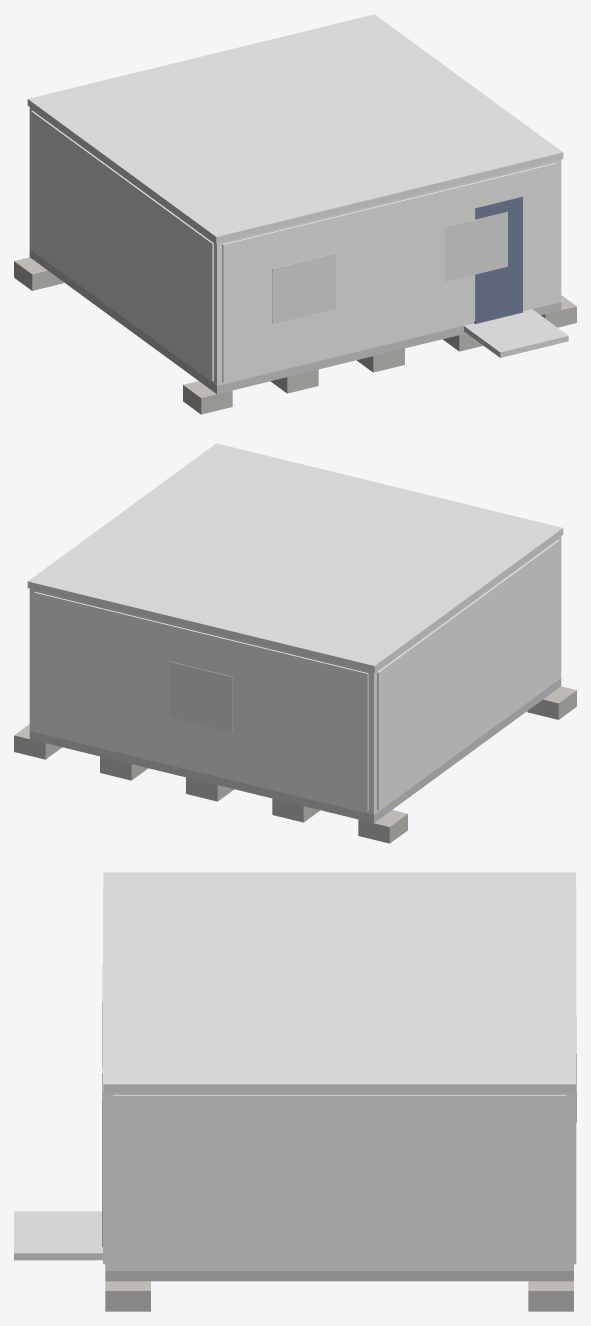
File: Studio-20-Retirement-LOD0.glb
The picture shows the model from 3 angles, top to bottom: view 1: azimuth 30°, elevation 25°; view 2: azimuth 150°, elevation 25°; view 3: azimuth 270°, elevation 25°; orthographic projection. The views are drawn at different scales.
Visible parts, largest first — view 1: RoofMain, ExteriorPanelsStandard, WindowsStandard, ExteriorShell, FoundationBlocks, BaseFrame, EntryDoor, AccessibilityRetirement; view 2: ExteriorPanelsStandard, RoofMain, FoundationBlocks, ExteriorShell, BaseFrame, WindowsStandard; view 3: RoofMain, ExteriorPanelsStandard, ExteriorShell, BaseFrame, AccessibilityRetirement, FoundationBlocks.
Part boxes in pixels (x1,y1,x2,y2): RoofMain: (27, 14, 563, 243); ExteriorPanelsStandard: (31, 111, 556, 382); WindowsStandard: (272, 211, 507, 323); ExteriorShell: (29, 107, 561, 385); FoundationBlocks: (14, 257, 576, 414); BaseFrame: (29, 249, 561, 394); EntryDoor: (474, 196, 522, 323); AccessibilityRetirement: (464, 309, 568, 357); ExteriorPanelsStandard: (34, 540, 559, 811); RoofMain: (27, 443, 563, 672); FoundationBlocks: (14, 686, 576, 843); ExteriorShell: (29, 536, 561, 814); BaseFrame: (29, 678, 561, 823); WindowsStandard: (169, 661, 232, 731); RoofMain: (103, 872, 575, 1092); ExteriorPanelsStandard: (103, 888, 576, 1268); ExteriorShell: (105, 1092, 573, 1270); BaseFrame: (105, 1271, 573, 1281); AccessibilityRetirement: (14, 1211, 102, 1260); FoundationBlocks: (105, 1281, 573, 1311).
Bounding box in the file's own units: 7.14 × 3.17 × 7.4.
